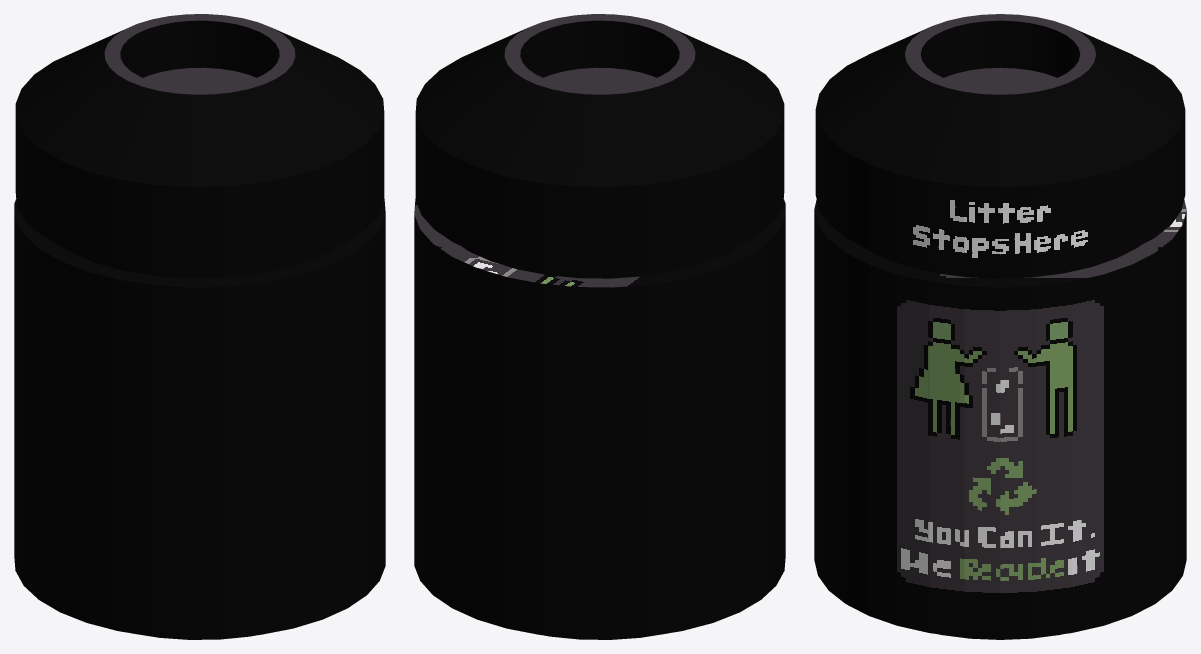
Rendered from trash_can.glb.
3 views of the same model, side by side, from view 1: azimuth 30°, elevation 25°; view 2: azimuth 150°, elevation 25°; view 3: azimuth 270°, elevation 25° (orthographic).
Parts seen in each view (by area): view 1: Cylinder; view 2: Cylinder; view 3: Cylinder.
Part boxes in pixels (x1,y1,x2,y2): Cylinder: [14, 14, 385, 639]; Cylinder: [414, 14, 785, 639]; Cylinder: [814, 14, 1186, 639].
Size of the model in its own units: 2.4 by 3.7 by 2.4.
1 material, 1 textured.
